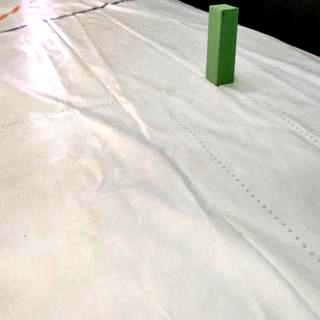greenbox: (206, 4, 239, 84)
